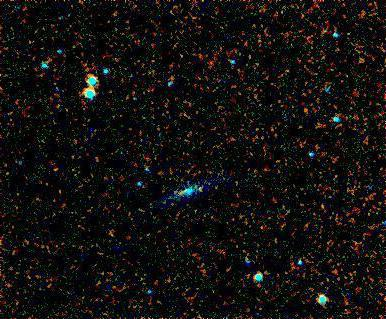star: (188, 173, 218, 203)
